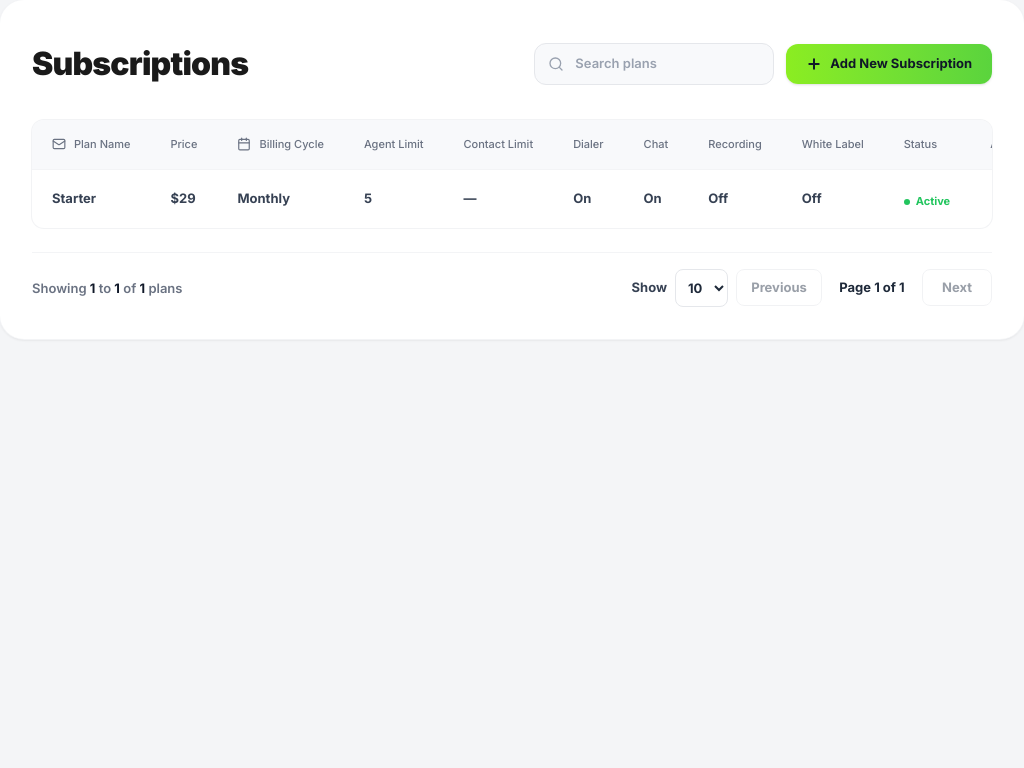
Test: Subscriptions Component › opens Add Subscription Modal
This screenshot has width=1024, height=768.
Expected: the text "Starter" is shown, [52,189,96,208]
Click the button "Add New Subscription" at point(889, 64), box [786,44,992,84]
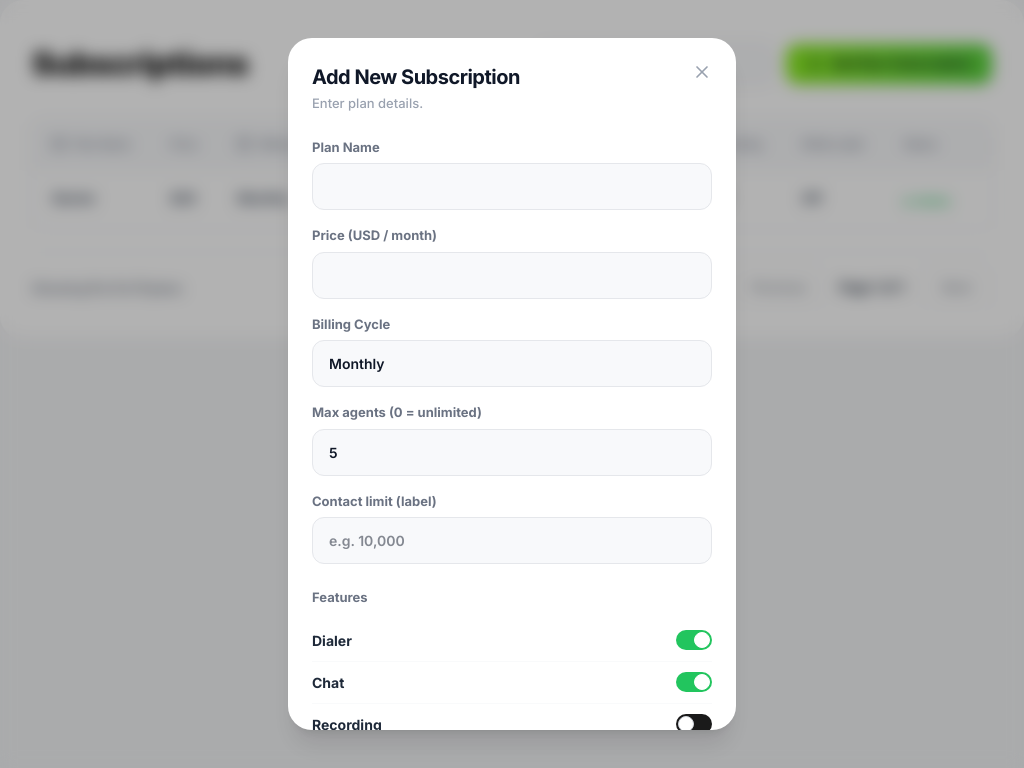
Expected: the heading "Add New Subscription" is shown, [312,65,520,89]
Expected: the text "Features" is shown, [312,589,368,605]
